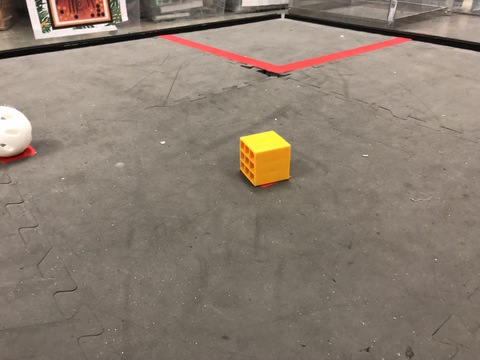ball: (1, 94, 48, 172)
block: (222, 126, 301, 192)
